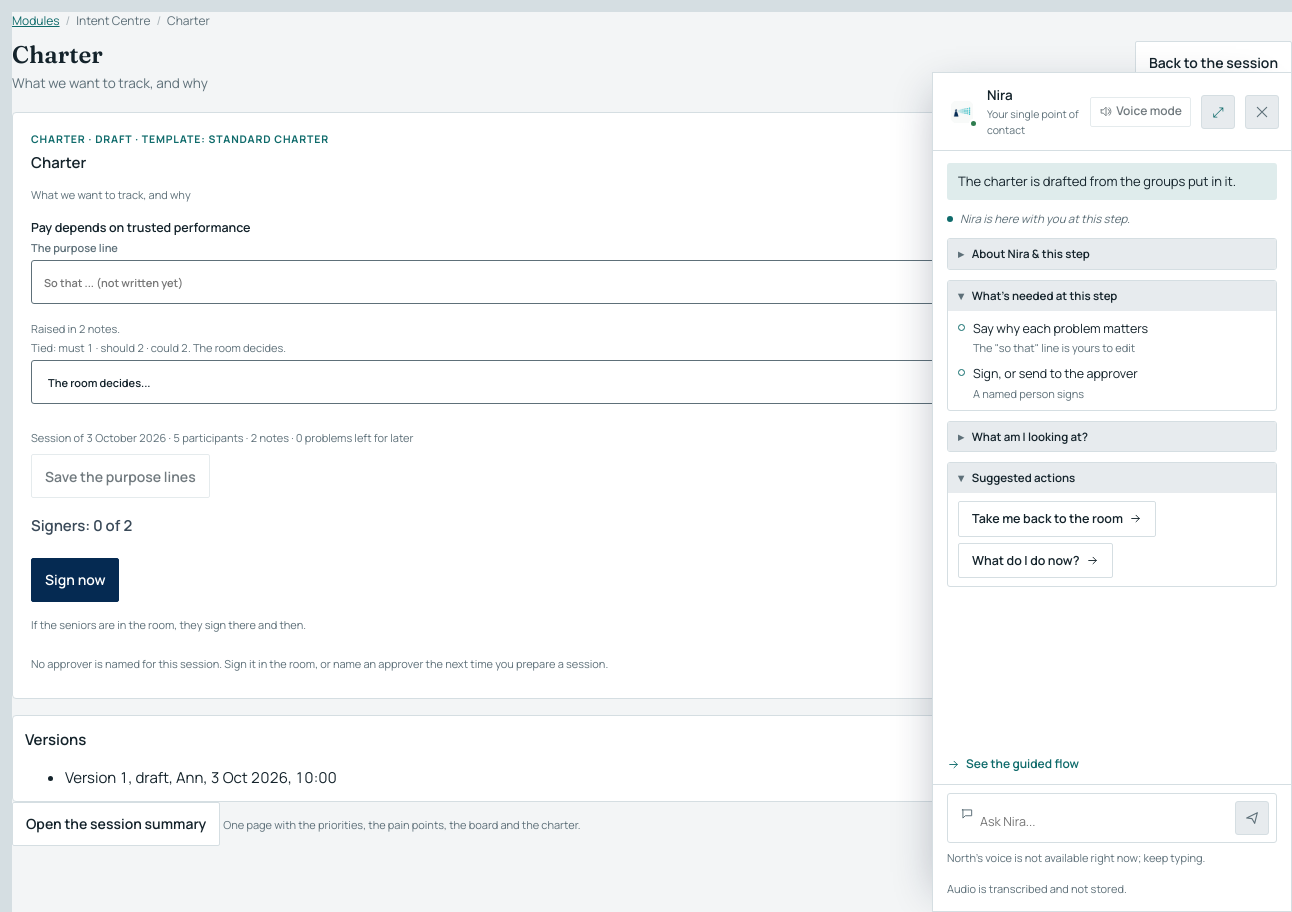
Test case: a tied vote shows the tie line and the organiser's choice is saved as the priority
Expected: the text "Tied: must 1 · should 2 · could 2. The room decides." is shown, 31,340 -> 286,355
Expected: the text "Tied" is shown, 1219,218 -> 1273,241
Select "Should" in the dropdown named "Choose the priority for: Pay depends on trusted performance" at (619, 382), box 31,360 -> 1207,404
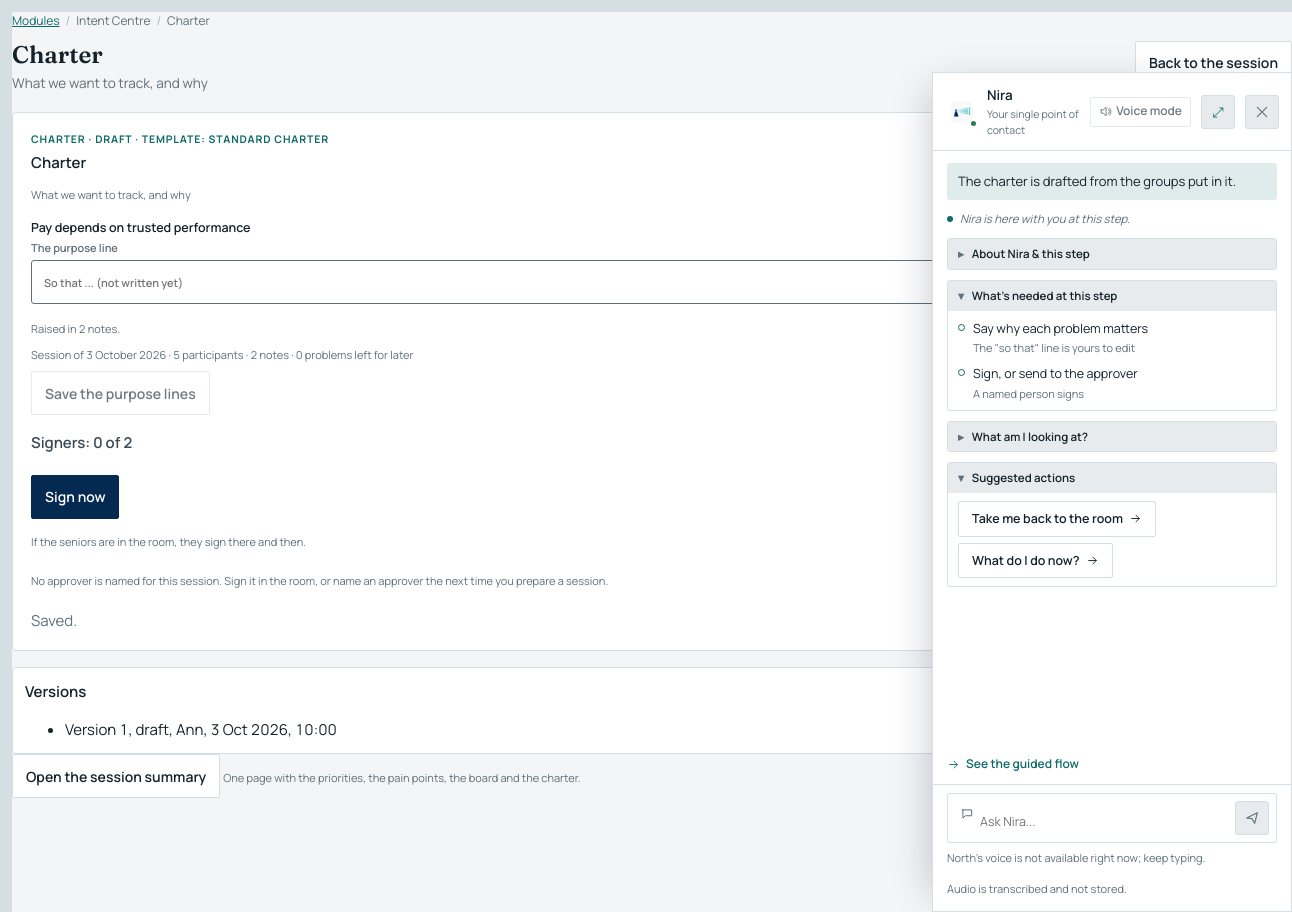
Expected: the text "Should" is shown, 1197,218 -> 1273,241
Expected: the text "Tied: must 1 · should 2 · could 2. The room decides." is gone
